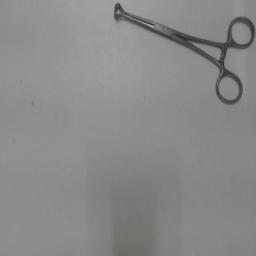Babcock Tissue Forceps: (111, 2, 255, 108)
